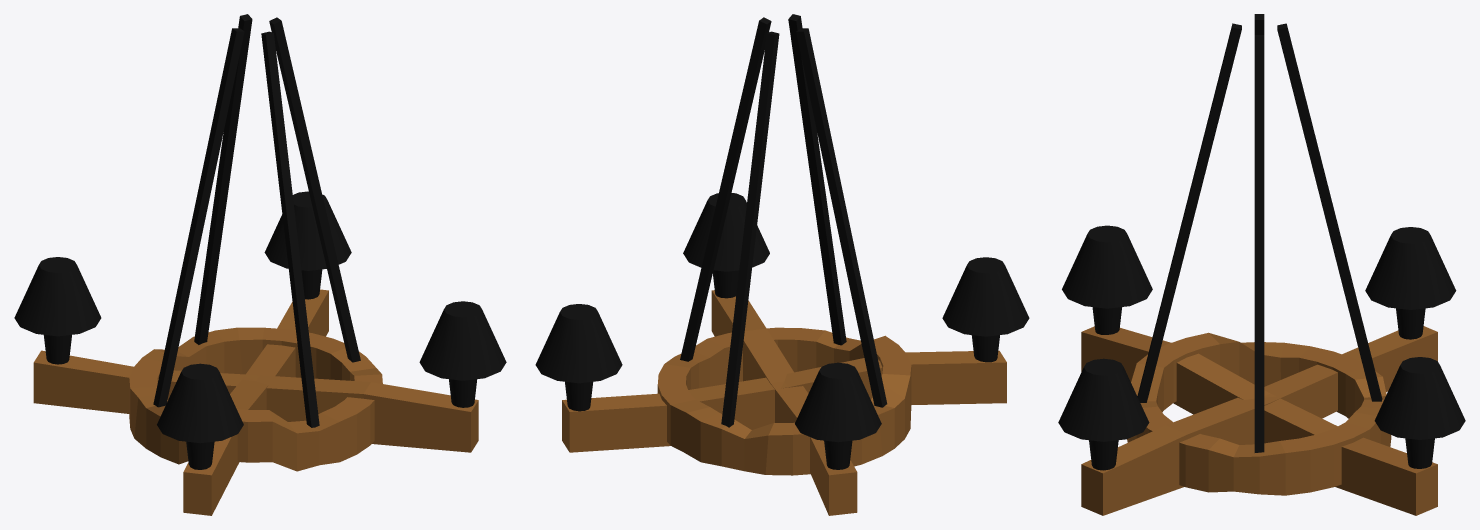
Rendered from LampHangingCeiling-1.glb.
3 views of the same model, side by side, from view 1: azimuth 30°, elevation 25°; view 2: azimuth 150°, elevation 25°; view 3: azimuth 270°, elevation 25° (orthographic). The views are drawn at different scales.
Parts seen in each view (by area): view 1: Circle.019, Cube.613, Cube.612, Cylinder.194, Cylinder.196, Cylinder.197, Cube.616, Cube.614, Cube.615, Cube.617, Cylinder.195; view 2: Circle.019, Cube.612, Cube.613, Cylinder.195, Cylinder.194, Cylinder.197, Cube.617, Cube.614, Cube.615, Cube.616, Cylinder.196; view 3: Circle.019, Cube.613, Cube.612, Cylinder.194, Cylinder.195, Cylinder.196, Cylinder.197, Cube.615, Cube.617, Cube.616.
Boxes of the visible parts, x1,y1,x2,y2 form: Circle.019: (129,327,382,471); Cube.613: (33,350,478,452); Cube.612: (183,289,328,515); Cylinder.194: (14,257,101,364); Cylinder.196: (419,301,506,407); Cylinder.197: (157,363,243,469); Cube.616: (261,31,319,427); Cube.614: (153,28,244,407); Cube.615: (269,17,360,362); Cube.617: (194,14,252,344); Cylinder.195: (264,191,351,299); Circle.019: (657,327,911,475); Cube.612: (562,350,1006,452); Cube.613: (711,290,857,515); Cylinder.195: (535,304,622,411); Cylinder.194: (795,362,881,469); Cylinder.197: (942,257,1029,362); Cube.617: (721,31,779,427); Cube.614: (796,28,887,407); Cube.615: (680,17,771,361); Cube.616: (788,14,846,345); Cylinder.196: (683,193,769,298); Circle.019: (1127,332,1391,495); Cube.613: (1081,326,1437,515); Cube.612: (1081,326,1437,515); Cylinder.194: (1365,227,1456,339); Cylinder.195: (1374,357,1465,468); Cylinder.196: (1058,358,1149,470); Cylinder.197: (1062,225,1152,334); Cube.615: (1254,35,1264,452); Cube.617: (1277,23,1382,401); Cube.616: (1137,23,1241,402).
Size of the model in its own units: 0.596 by 0.6812 by 0.5977.
